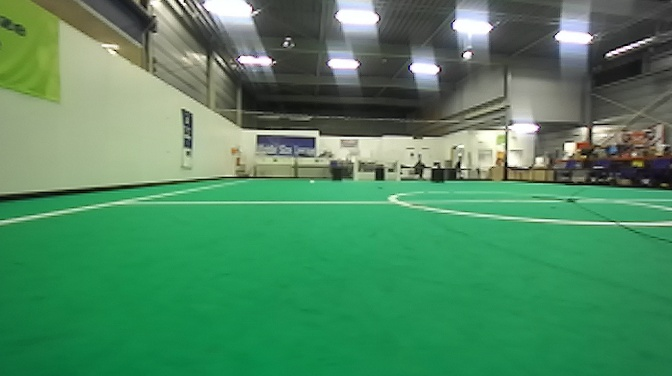goalpost: (396, 157, 401, 183), (352, 157, 356, 181)
